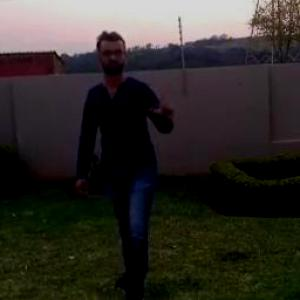land_hand: (147, 81, 178, 130)
